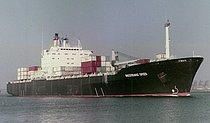Ship: (6, 11, 208, 103)
